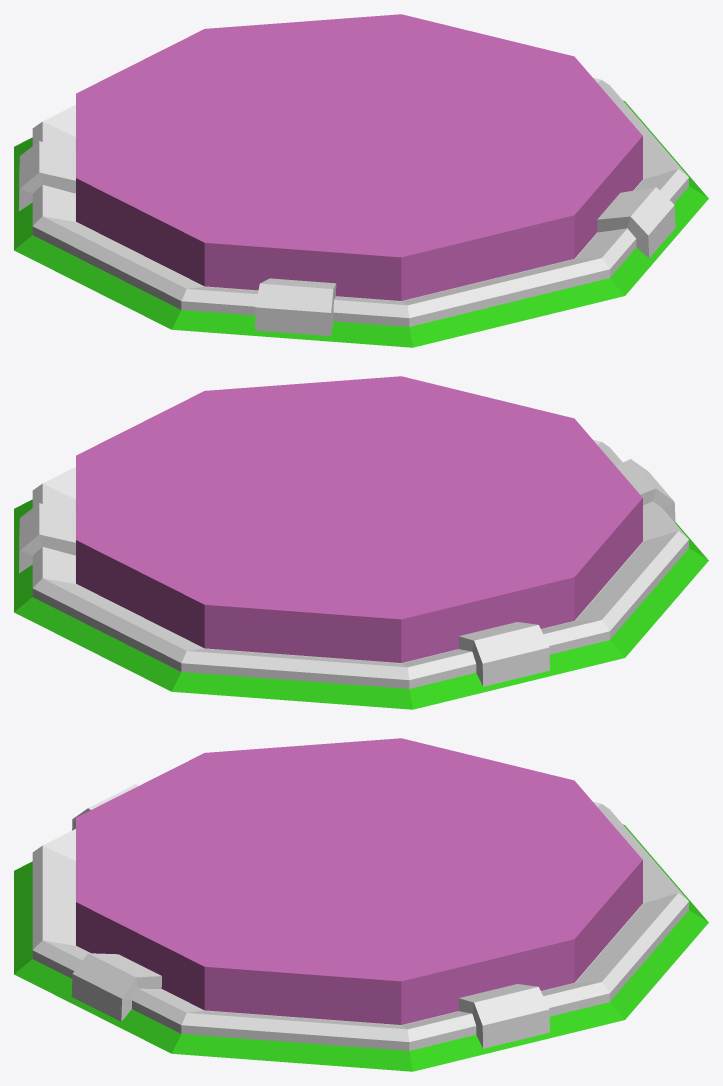
Rendered from JumpPad.fbx.
The picture shows the model from 3 angles, top to bottom: view 1: azimuth 30°, elevation 25°; view 2: azimuth 150°, elevation 25°; view 3: azimuth 270°, elevation 25°; orthographic projection.
Visible parts, largest first — view 1: BoostPad_T, BoostPad, BoostPad_C; view 2: BoostPad_T, BoostPad, BoostPad_C; view 3: BoostPad_T, BoostPad, BoostPad_C.
Part boxes in pixels (x1,y1,x2,y2): BoostPad_T: (76,14,642,300); BoostPad: (19,77,688,336); BoostPad_C: (14,100,708,347); BoostPad_T: (76,376,642,662); BoostPad: (19,439,688,688); BoostPad_C: (14,499,708,709); BoostPad_T: (76,738,642,1024); BoostPad: (32,784,688,1050); BoostPad_C: (14,824,708,1071).
Bounding box in the file's own units: 215 × 21.25 × 212.
